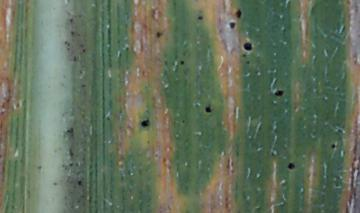tarspot: (240, 39, 256, 55), (201, 101, 216, 117), (285, 159, 299, 172), (272, 87, 286, 99), (139, 117, 151, 129), (233, 7, 245, 19), (226, 20, 239, 31), (177, 56, 187, 69), (154, 27, 164, 40), (329, 140, 339, 152), (75, 177, 84, 188), (195, 13, 206, 21)
